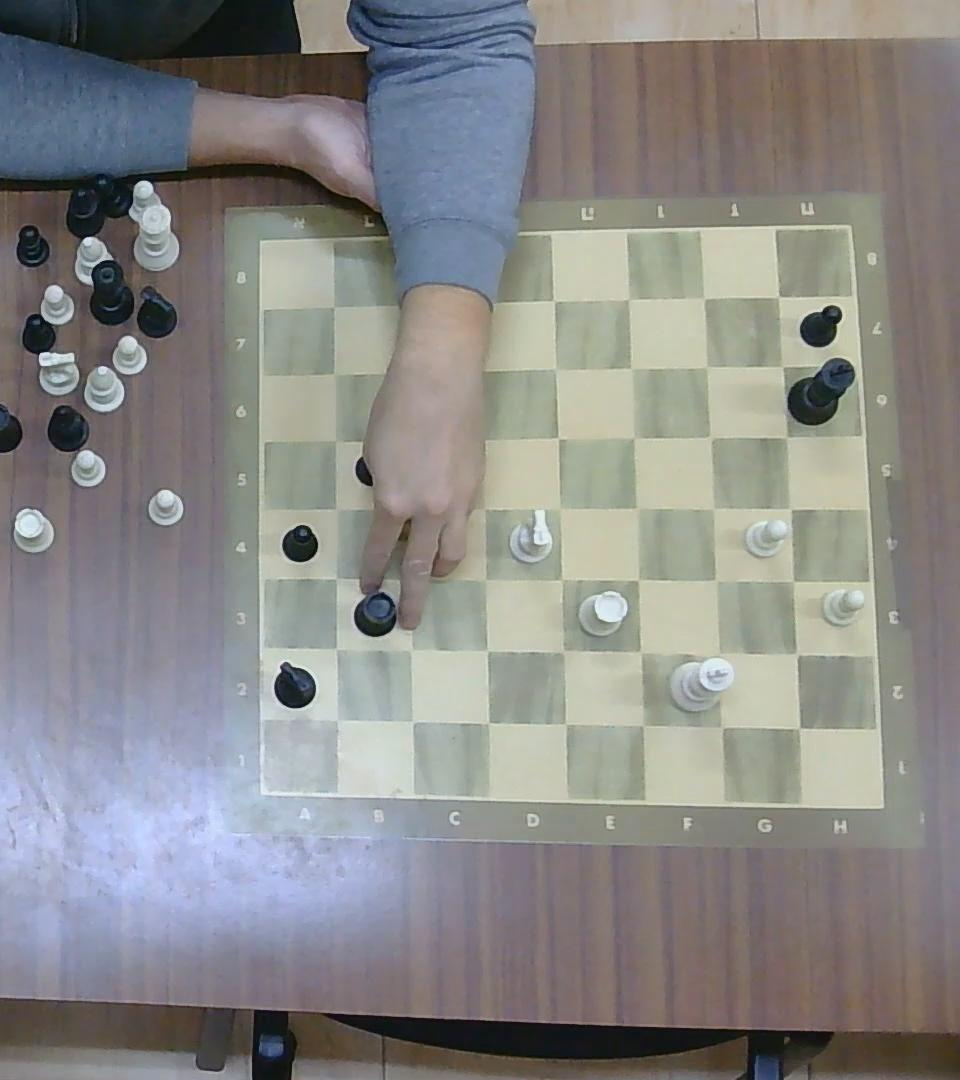xcorner: (624, 707, 659, 740), (781, 711, 815, 743), (780, 638, 813, 670), (701, 637, 734, 669), (624, 635, 656, 667), (548, 706, 580, 738), (621, 562, 653, 594), (699, 564, 731, 596), (705, 710, 736, 743), (547, 635, 578, 667), (546, 563, 578, 594), (471, 706, 502, 737), (321, 703, 352, 734), (698, 492, 728, 523), (776, 565, 807, 595), (320, 632, 350, 663), (619, 421, 649, 452), (388, 355, 418, 386), (475, 284, 504, 316), (395, 705, 425, 735), (471, 634, 501, 664), (317, 290, 347, 320), (616, 351, 646, 381), (539, 283, 568, 314), (615, 283, 644, 313), (397, 634, 426, 664), (321, 563, 350, 593), (776, 493, 806, 522), (387, 290, 416, 320), (394, 425, 423, 455), (465, 354, 494, 384), (544, 493, 573, 522), (622, 493, 651, 522), (471, 564, 500, 593), (541, 353, 570, 382), (692, 351, 721, 380), (543, 422, 572, 451), (767, 351, 796, 380), (465, 424, 494, 452), (398, 564, 425, 593), (471, 494, 499, 521), (697, 423, 725, 450), (320, 359, 348, 386), (690, 283, 717, 310), (396, 494, 423, 521), (772, 422, 800, 448), (324, 494, 350, 521), (765, 284, 791, 309), (323, 428, 348, 452)
